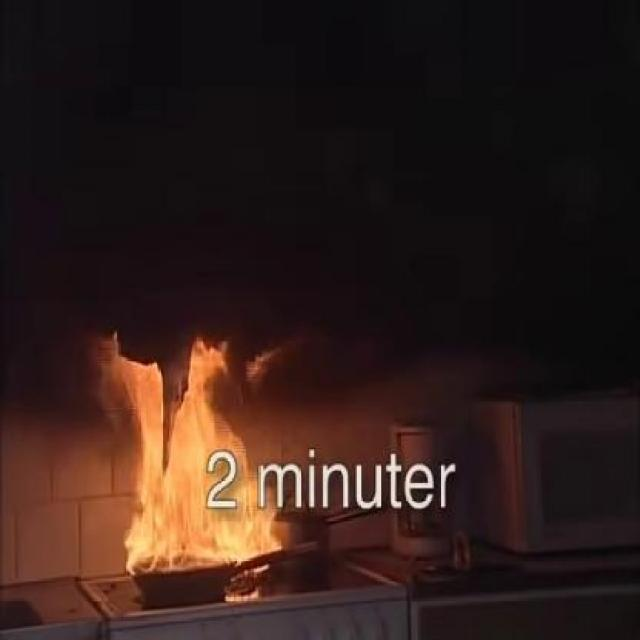fire: (90, 344, 286, 556)
